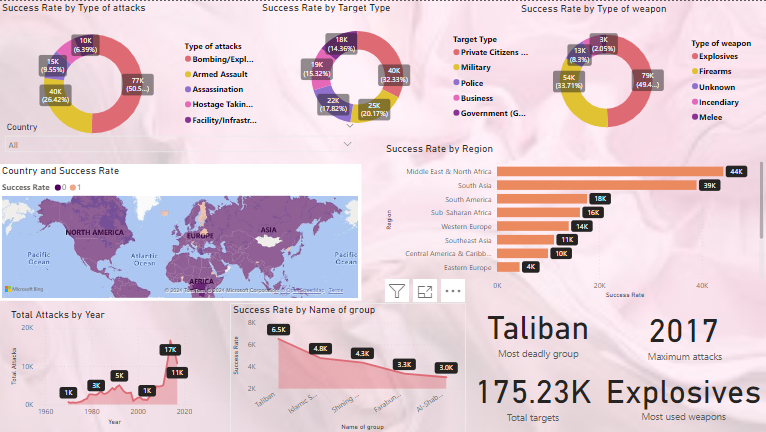

This screenshot's page, from the dashboard's own definition file:
{"tool":"powerbi","page":{"name":"Page 1","canvas":[1280,720],"ordinal":0},"visuals":[{"type":"donutChart","fields":{"Category":["Global terrorism final data set.Type of attacks"],"Y":["Sum(Global terrorism final data set.Success Rate)"]},"box":[0,0,445.4,257.3],"z":0},{"type":"donutChart","fields":{"Category":["Global terrorism final data set.Target Type"],"Y":["Sum(Global terrorism final data set.Success Rate)"]},"box":[433.8,0,465.2,234.2],"z":1000},{"type":"donutChart","fields":{"Category":["Global terrorism final data set.Type of weapon"],"Y":["Sum(Global terrorism final data set.Success Rate)"]},"box":[864.3,1.6,415.7,244.1],"z":2000},{"type":"barChart","fields":{"Category":["Global terrorism final data set.Region"],"Y":["Sum(Global terrorism final data set.Success Rate)"]},"box":[640,234.2,640,265.6],"z":3000},{"type":"areaChart","fields":{"Category":["Global terrorism final data set.Name of group"],"Y":["Sum(Global terrorism final data set.Success Rate)"]},"box":[385,503.3,393.3,216.7],"z":4000},{"type":"areaChart","fields":{"Category":["Global terrorism final data set.Year"],"Y":["CountNonNull(Global terrorism final data set.Year)"]},"box":[15,511.7,311.7,200],"z":5000},{"type":"slicer","fields":{"Values":["Global terrorism final data set.Country"]},"box":[0,196.3,603.7,75.9],"z":6000},{"type":"card","fields":{"Values":["Min(Global terrorism final data set.Name of group)"]},"box":[803.3,493.3,190,110],"z":7000},{"type":"card","fields":{"Values":["CountNonNull(Global terrorism final data set.Target Type)"]},"box":[786.7,601.7,206.7,106.7],"z":8000},{"type":"card","fields":{"Values":["Max(Global terrorism final data set.Year)"]},"box":[1046.7,503.3,188.3,100],"z":9000},{"type":"card","fields":{"Values":["Min(Global terrorism final data set.Type of weapon)"]},"box":[1001.7,588.3,278.3,131.7],"z":10000},{"type":"map","fields":{"Category":["Global terrorism final data set.Country"],"Size":["Sum(Global terrorism final data set.Success Rate)"]},"box":[0,272,603,228],"z":11000}]}

Visuals, with their boxes in screenshot pixels (x1, y1, x2, y2), scaled from the page's 1280x720 canvas onto the 766x432 screenshot:
donutChart - Global terrorism final data set.Type of attacks x Sum(Global terrorism final data set.Success Rate): <bbox>0, 0, 267, 154</bbox>
donutChart - Global terrorism final data set.Target Type x Sum(Global terrorism final data set.Success Rate): <bbox>260, 0, 538, 141</bbox>
donutChart - Global terrorism final data set.Type of weapon x Sum(Global terrorism final data set.Success Rate): <bbox>517, 1, 765, 147</bbox>
barChart - Global terrorism final data set.Region x Sum(Global terrorism final data set.Success Rate): <bbox>383, 141, 765, 300</bbox>
areaChart - Global terrorism final data set.Name of group x Sum(Global terrorism final data set.Success Rate): <bbox>230, 302, 466, 431</bbox>
areaChart - Global terrorism final data set.Year x CountNonNull(Global terrorism final data set.Year): <bbox>9, 307, 196, 427</bbox>
slicer - Global terrorism final data set.Country: <bbox>0, 118, 361, 163</bbox>
card - Min(Global terrorism final data set.Name of group): <bbox>481, 296, 594, 362</bbox>
card - CountNonNull(Global terrorism final data set.Target Type): <bbox>471, 361, 594, 425</bbox>
card - Max(Global terrorism final data set.Year): <bbox>626, 302, 739, 362</bbox>
card - Min(Global terrorism final data set.Type of weapon): <bbox>599, 353, 765, 431</bbox>
map - Global terrorism final data set.Country x Sum(Global terrorism final data set.Success Rate): <bbox>0, 163, 361, 300</bbox>
